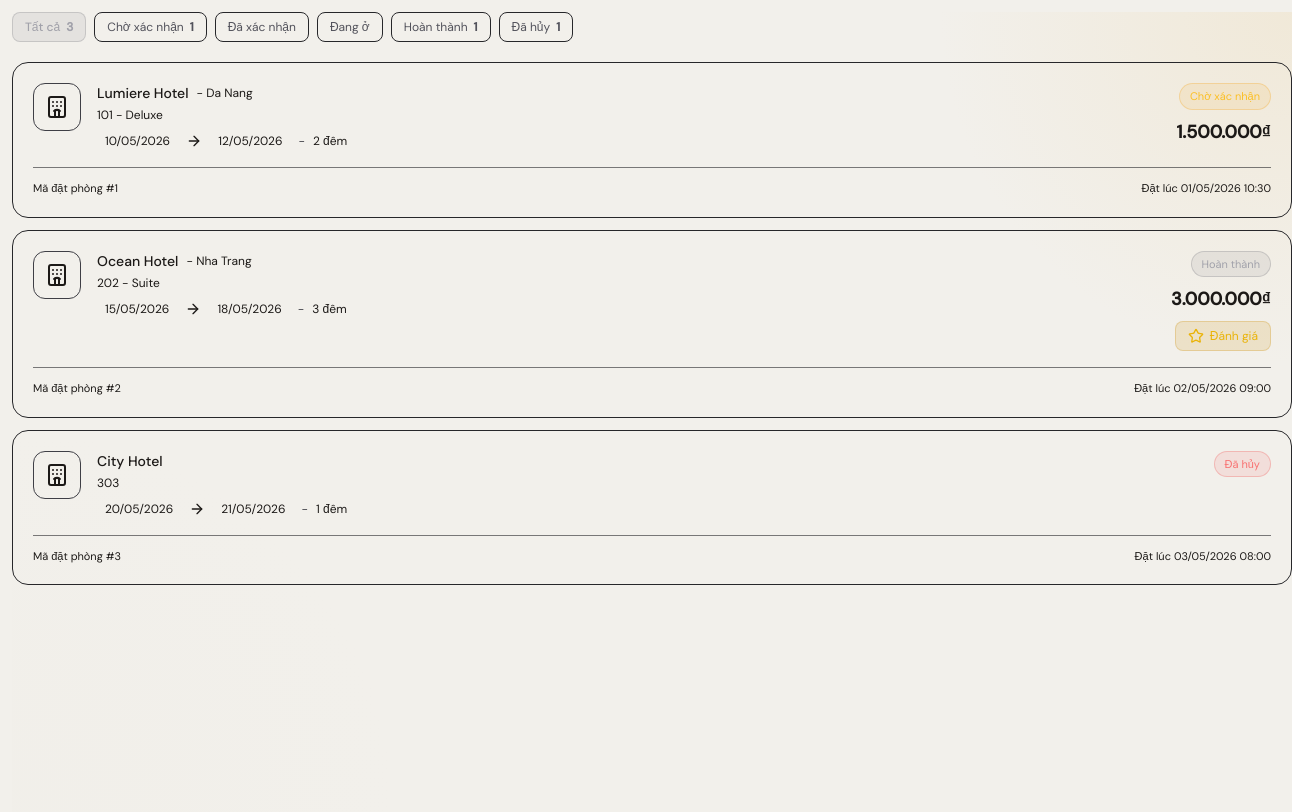
Test case: BookingHistory › should filter bookings by pending status
Click the button "Chờ xác nhận 1" at (150, 27), box x1=94 y1=12 x2=207 y2=42
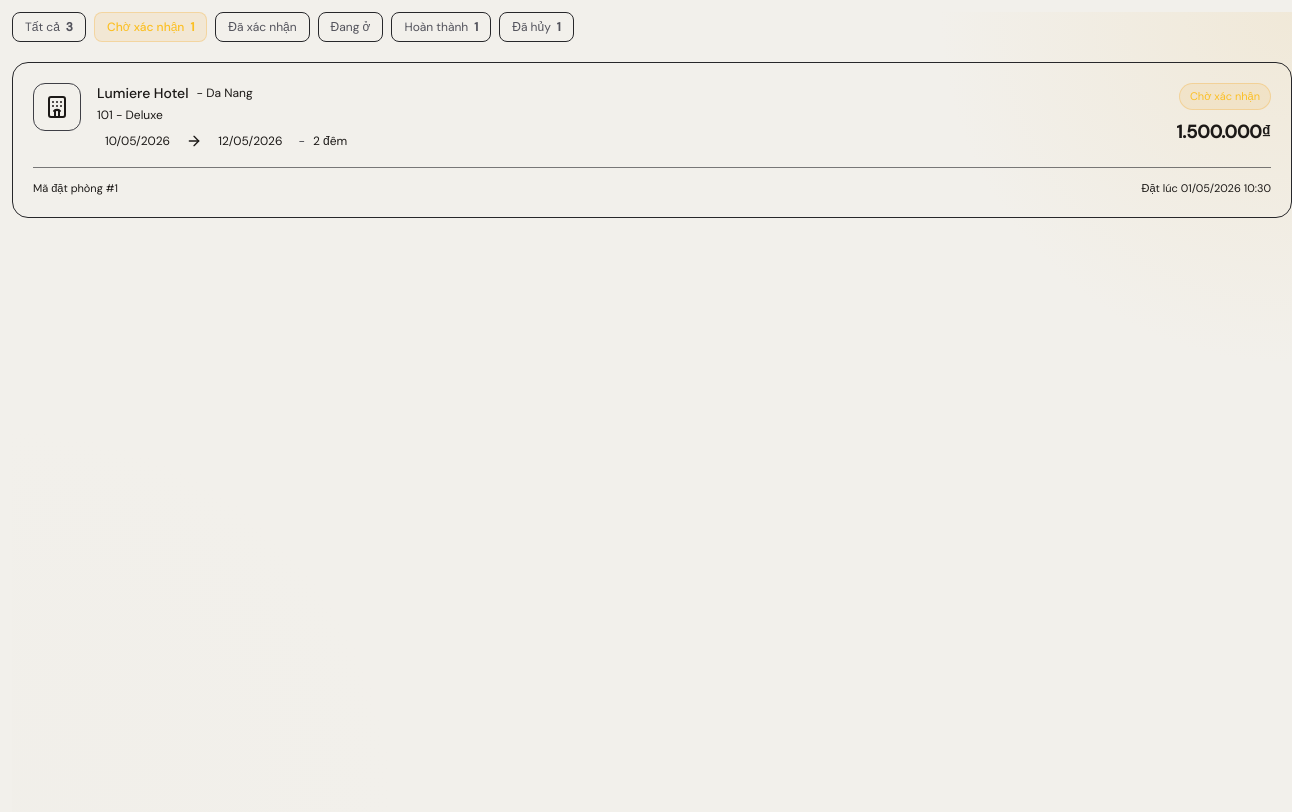
Check: the text "Lumiere Hotel" is shown, box x1=97 y1=83 x2=188 y2=103
Check: the text "Ocean Hotel" is gone
Check: the text "City Hotel" is gone
